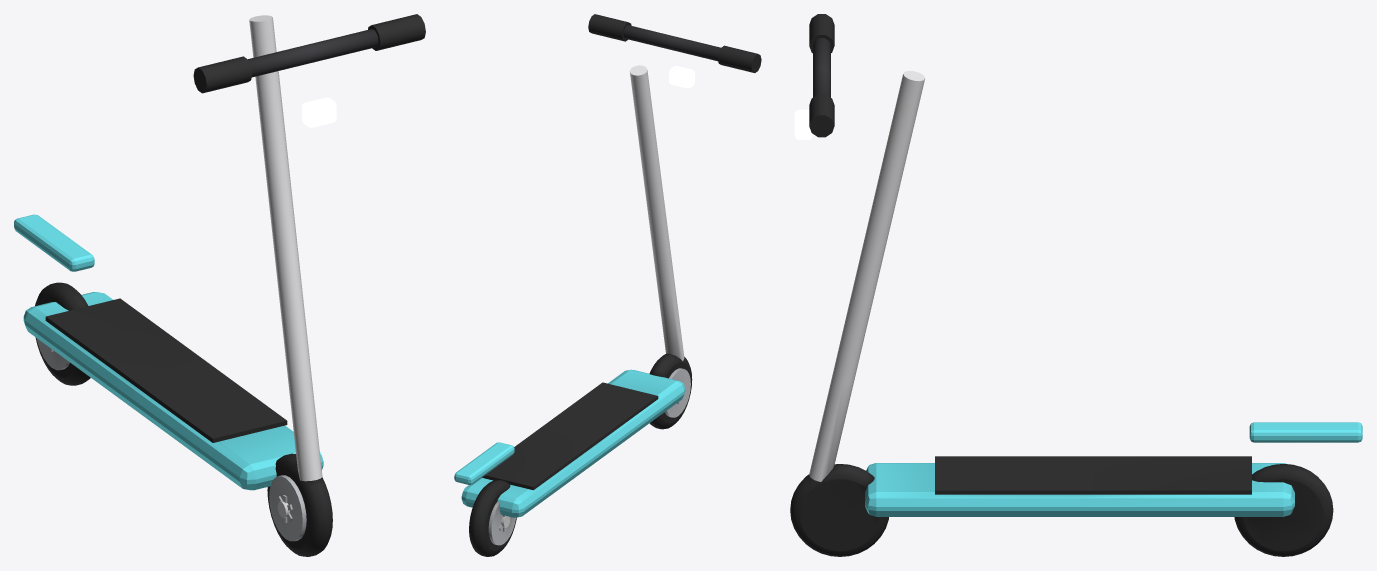
File: car_scooter.glb
3 renders of one model, left to right at view 1: azimuth 30°, elevation 25°; view 2: azimuth 150°, elevation 25°; view 3: azimuth 270°, elevation 25°, orthographic. The views are drawn at different scales.
Parts seen in each view (by area): view 1: body, w_F, w_R; view 2: body, w_R, w_F; view 3: body, w_F, w_R.
Boxes of the visible parts, bbox=[...] form: body: bbox=[14, 14, 425, 490]; w_F: bbox=[267, 453, 332, 556]; w_R: bbox=[35, 282, 90, 385]; body: bbox=[454, 14, 761, 517]; w_R: bbox=[469, 480, 516, 556]; w_F: bbox=[649, 353, 692, 429]; body: bbox=[794, 14, 1362, 516]; w_F: bbox=[790, 464, 888, 556]; w_R: bbox=[1234, 464, 1333, 556].
Bounding box in the file's own units: 0.53 × 1.2 × 1.26.
